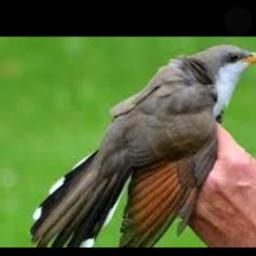Cuckoo: (29, 43, 256, 247)
